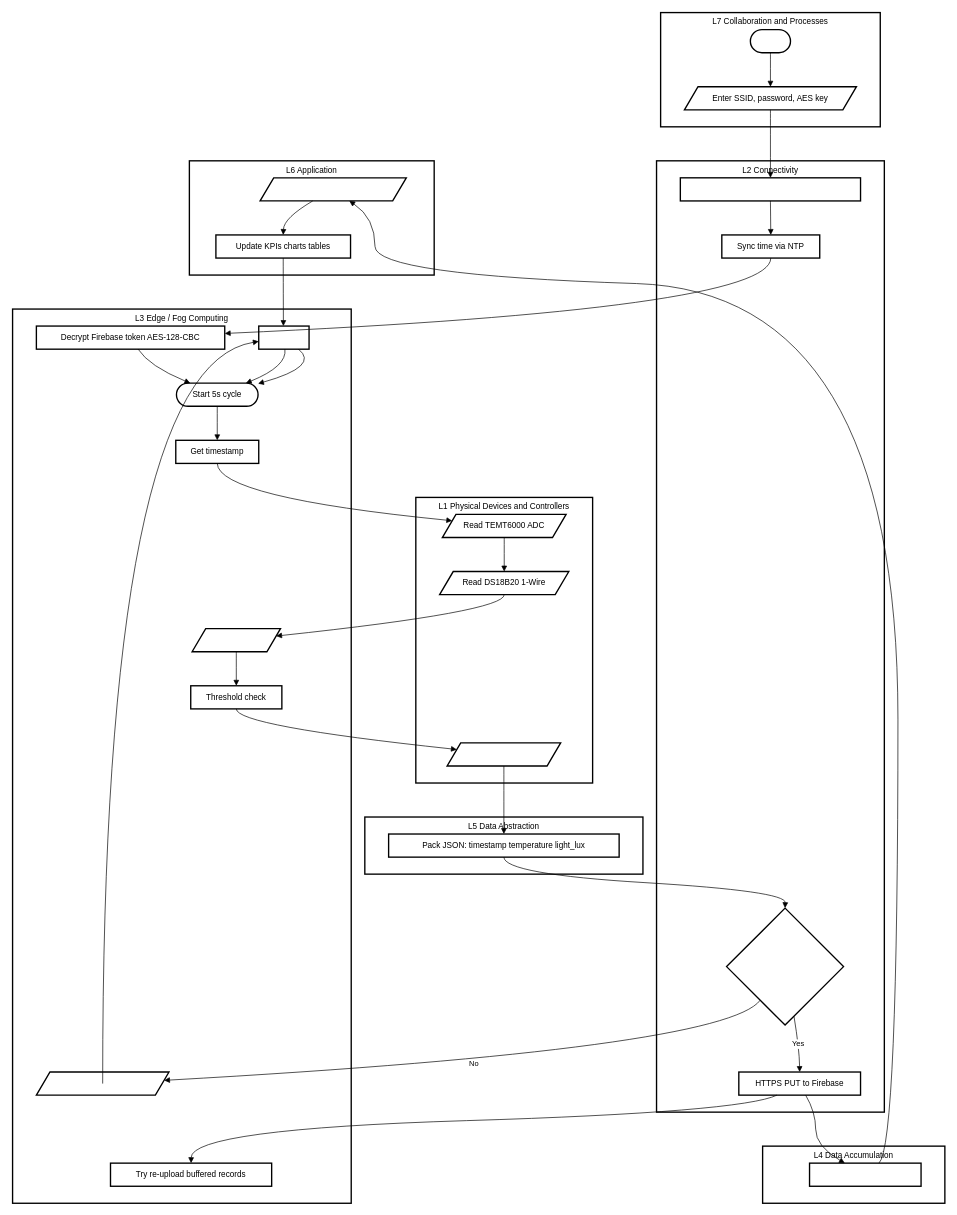
This 957x1215 diagram has some shape labels left out. The centre of each missing label's shape, as x and y in pixels:
Append to buffer.json: the point at 102,1083
Connect to Wi-Fi STA - timeout 10s: the point at 770,189
Dashboard fetch latest N: the point at 333,189
Print log line: the point at 236,640
Set NeoPixel alert: the point at 503,754
Sleep 5s: the point at 283,337
Start: the point at 770,41
Store record in RTDB: the point at 865,1174
Wi-Fi connected?: the point at 785,966
